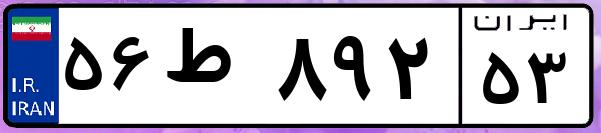2: (385, 28, 445, 110)
3: (525, 38, 570, 115)
5: (57, 26, 110, 100), (475, 38, 525, 113)
6: (110, 28, 158, 98)
8: (270, 28, 330, 110)
9: (330, 28, 385, 110)
ط: (158, 20, 270, 120)
